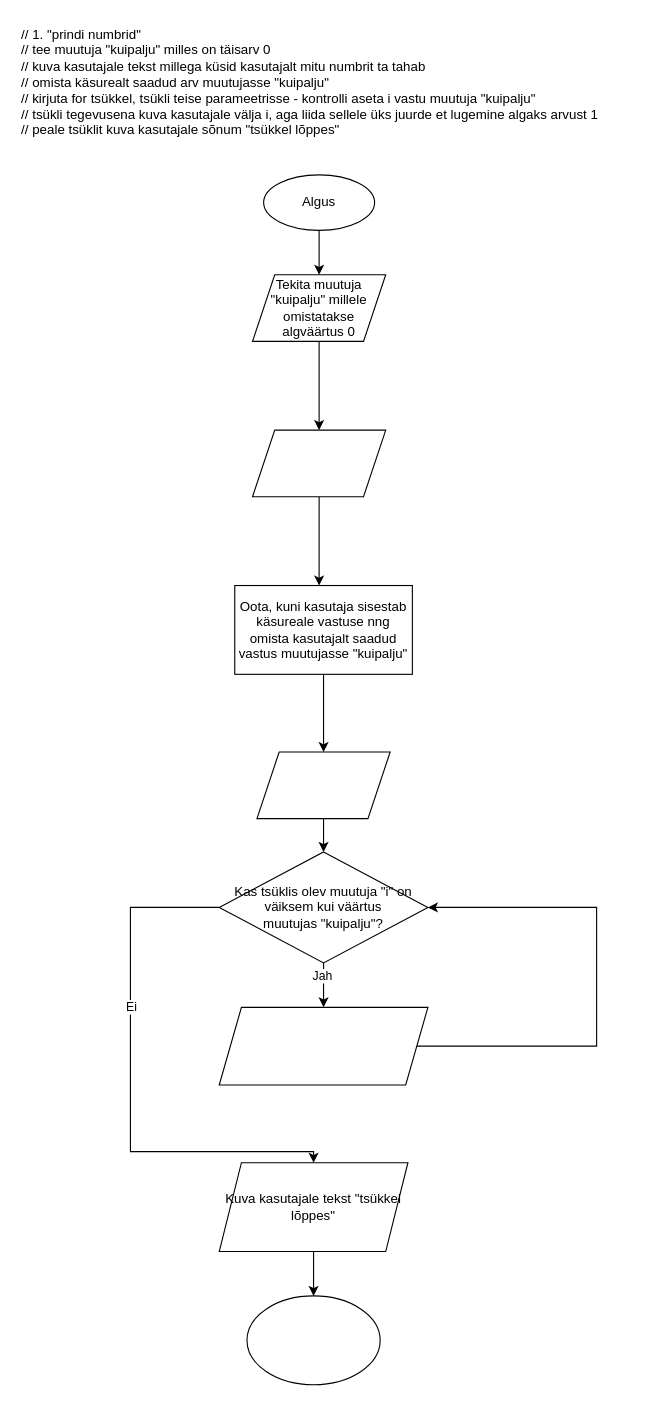
Some shapes in this 659 by 1404 pixel diagram are drawn without their labels. Here are the shapes that lost their labels. From the top down, the centre of each, then its label:
pixel 318 463: Kuva kasutajale tekst "mitu numbrit sa tahad?"
pixel 323 785: Seadista for tsükkel millel on tsükli töö jaoks muutuja "i"
pixel 323 1045: Kuva kasutajale välja muutuja "i" väärtus, kujul millele liidad ühe juurde: i+1
